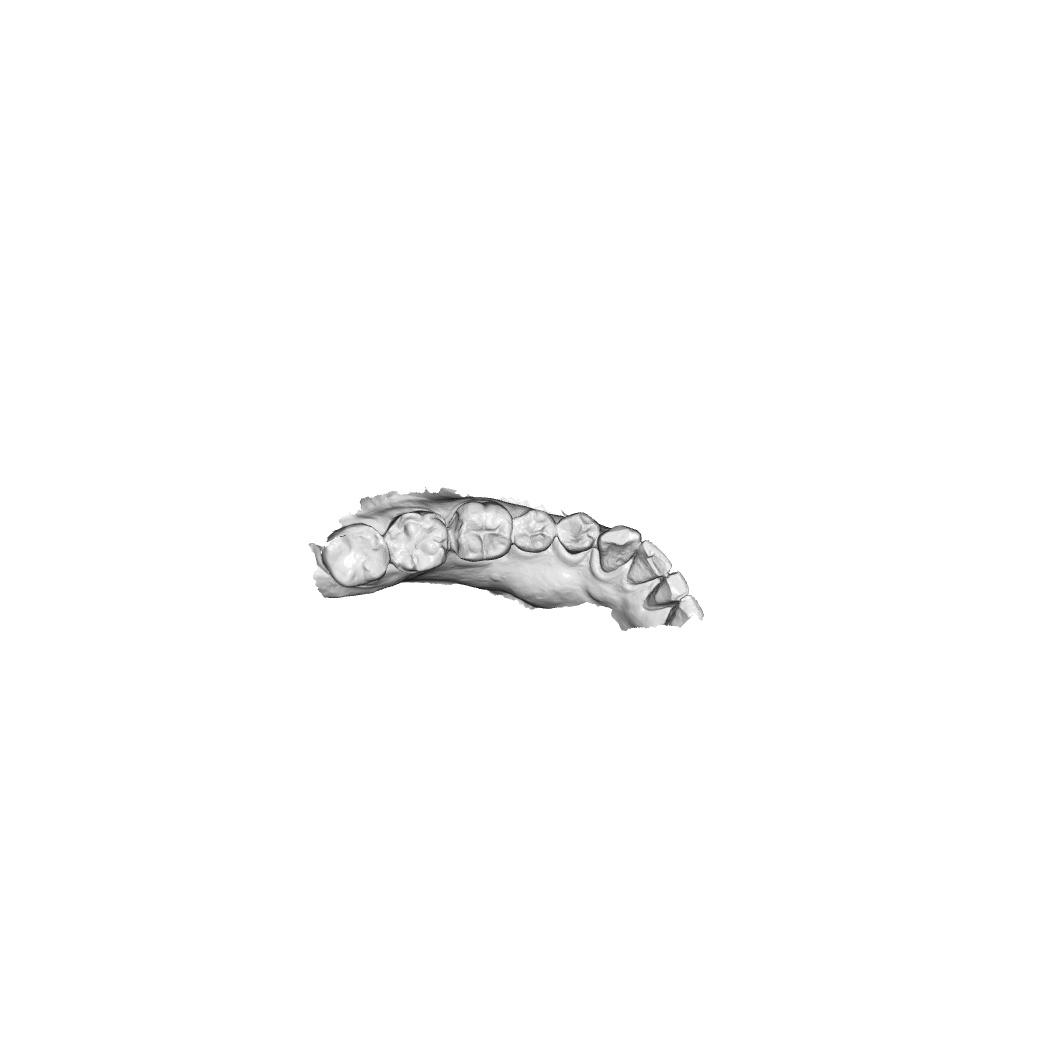canine: (597, 524, 642, 574)
incisor: (626, 539, 673, 585), (642, 570, 689, 611), (664, 594, 704, 628)
molar: (321, 522, 391, 588), (384, 509, 449, 575), (448, 499, 513, 563)
premolar: (513, 508, 556, 554), (557, 511, 601, 555)
